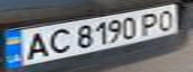0: (121, 14, 142, 39)
1: (90, 19, 112, 45)
8: (72, 21, 96, 50)
9: (106, 17, 127, 43)
A: (18, 29, 54, 61)
C: (42, 26, 75, 55)
O: (151, 7, 178, 30)
P: (136, 10, 163, 35)
